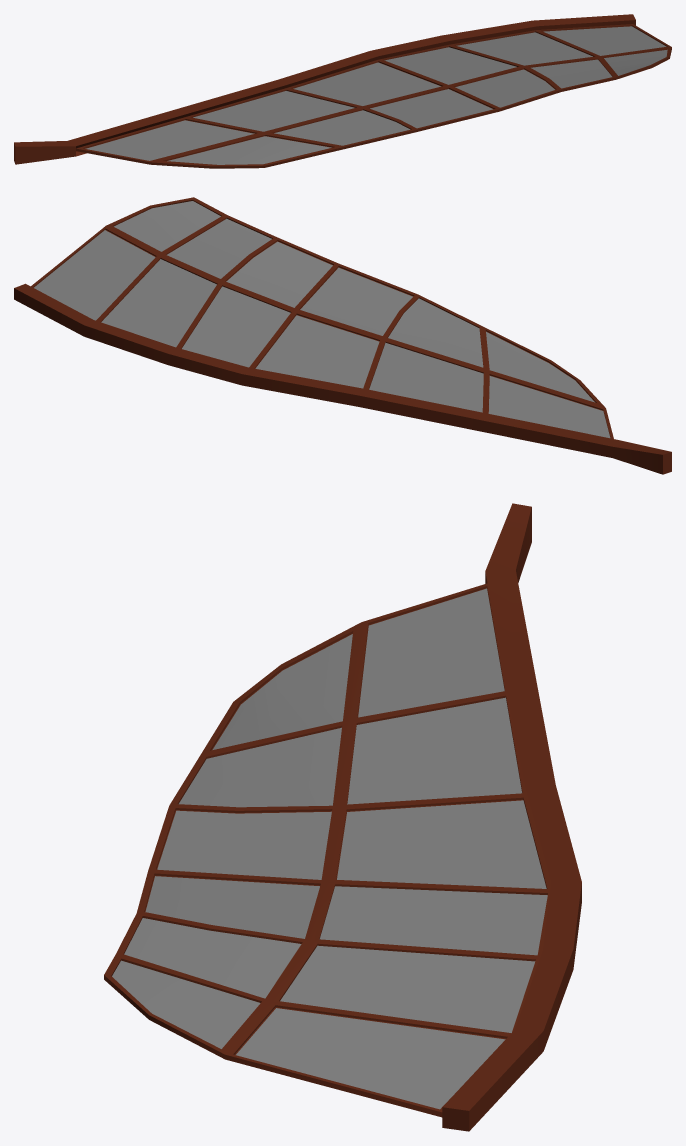
The model's file is ST_Wing_04.fbx.
The picture shows the model from 3 angles, top to bottom: view 1: azimuth 30°, elevation 25°; view 2: azimuth 150°, elevation 25°; view 3: azimuth 270°, elevation 25°; orthographic projection. The views are drawn at different scales.
Visible parts, largest first — view 1: _Wing_04; view 2: _Wing_04; view 3: _Wing_04.
Boxes of the visible parts, left/top/right/bottom form: _Wing_04: left=14, top=14, right=671, bottom=168; _Wing_04: left=14, top=197, right=671, bottom=474; _Wing_04: left=104, top=503, right=581, bottom=1131.
Bounding box in the file's own units: 5232 × 357 × 1784.
